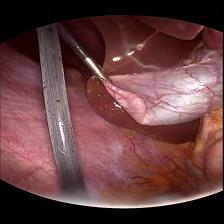Grasper: (82, 53, 121, 90)
